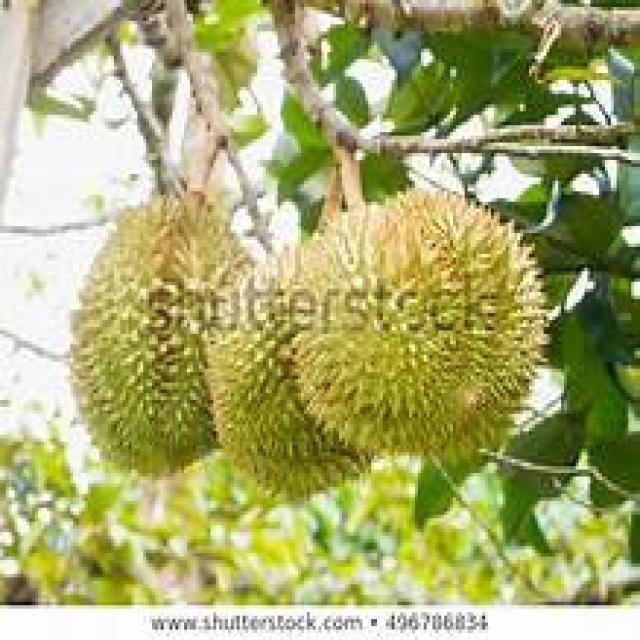immature: (212, 192, 544, 495), (292, 192, 542, 455), (71, 199, 245, 473)
